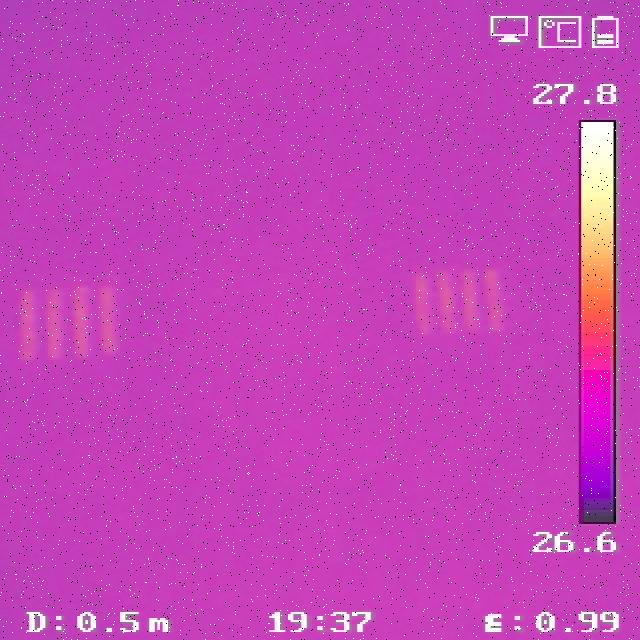threshold 4-bar target: (15, 284, 120, 360), (408, 268, 507, 329)
